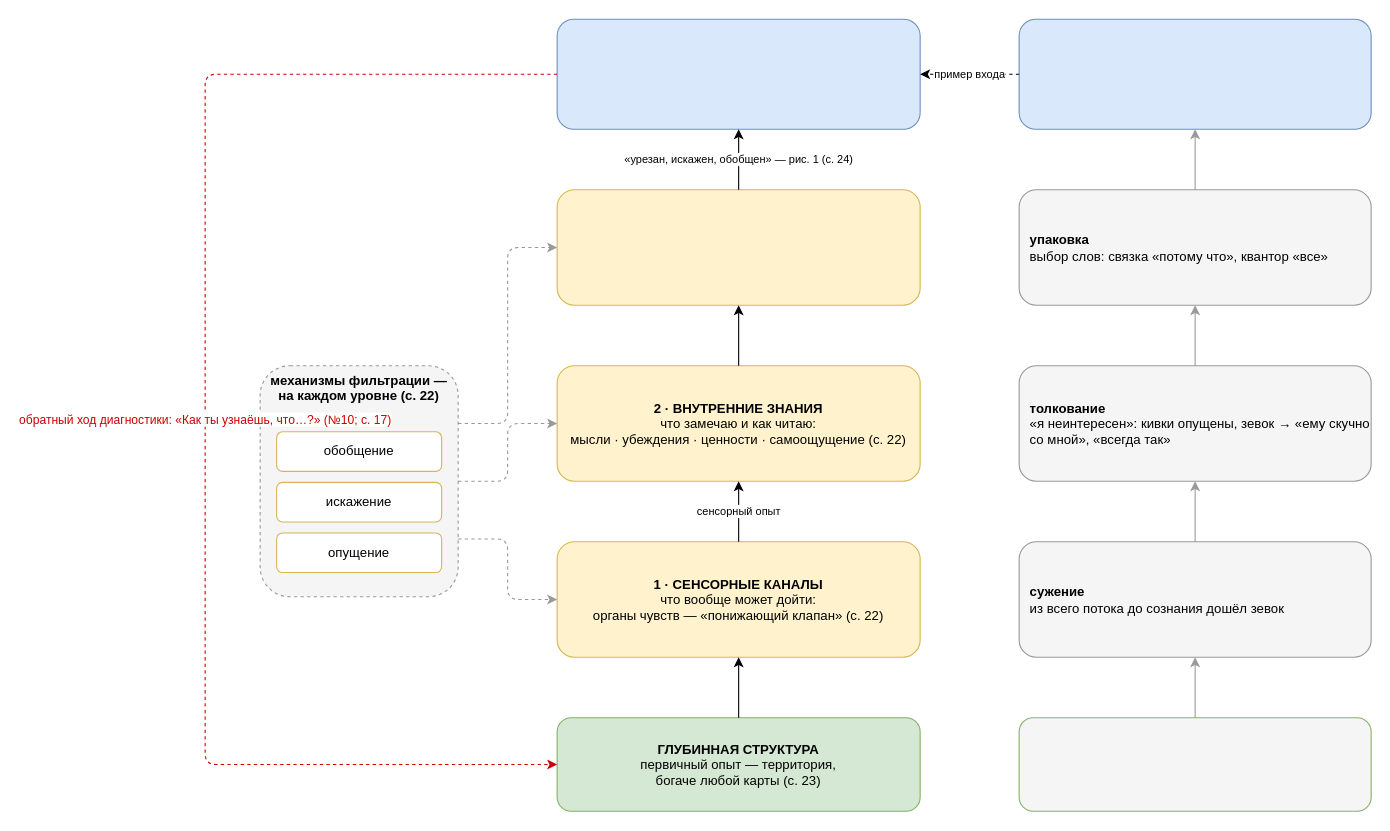
This 1390x831 diagram has some shape labels left out. The centre of each missing label's shape, as x and y in pixels:
"3 · ЯЗЫК как пакуется в слова: глубинная структура → поверхностная (с. 17–18)" belongs at point 738,247.
"ПОВЕРХНОСТНАЯ СТРУКТУРА — «сказанные слова» = ВХОД МОДУЛЯ ДИАГНОСТИКИ" belongs at point 738,73.
"ПРИМЕР · всё происходящее голос, слайды, кивки слушателей, один зевок" belongs at point 1194,764.
"фраза «Я неинтересный, потому что все скучают на моих докладах»" belongs at point 1194,73.
